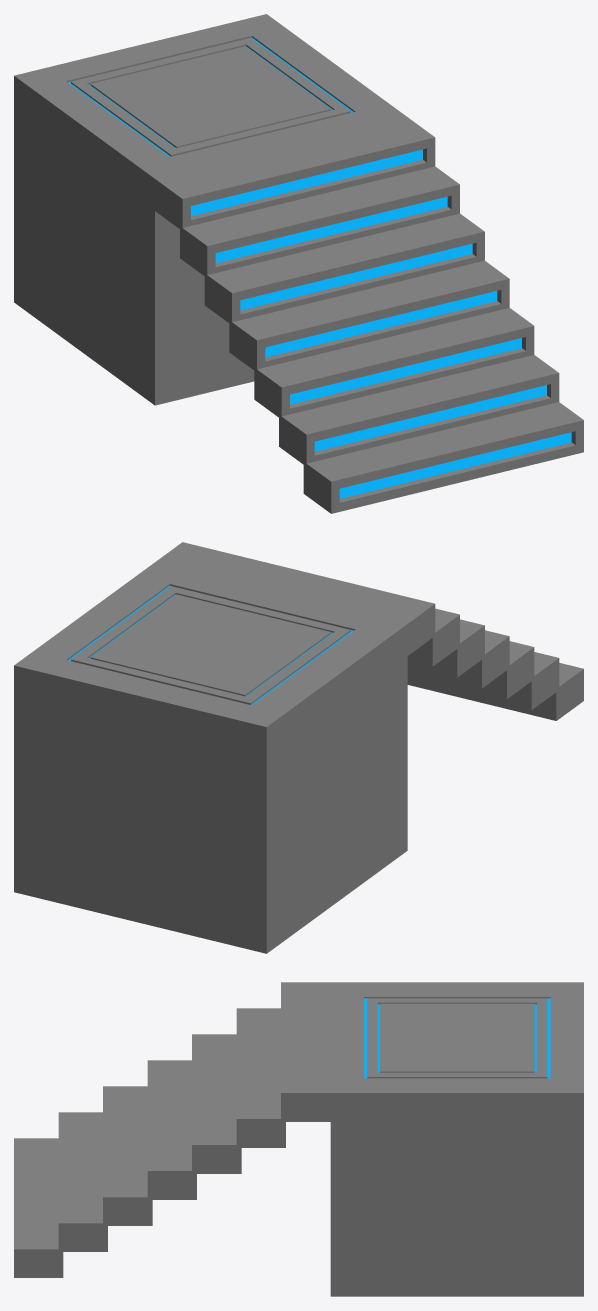
The model's file is stair.glb.
The picture shows the model from 3 angles, top to bottom: view 1: azimuth 30°, elevation 25°; view 2: azimuth 150°, elevation 25°; view 3: azimuth 270°, elevation 25°; orthographic projection. The views are drawn at different scales.
Parts seen in each view (by area): view 1: 立方体.005; view 2: 立方体.005; view 3: 立方体.005.
Boxes of the visible parts, <box> form: 立方体.005: <box>14,14,583,513</box>; 立方体.005: <box>14,542,583,953</box>; 立方体.005: <box>14,982,583,1296</box>.
Size of the model in its own units: 8.93 by 7.66 by 19.42.
